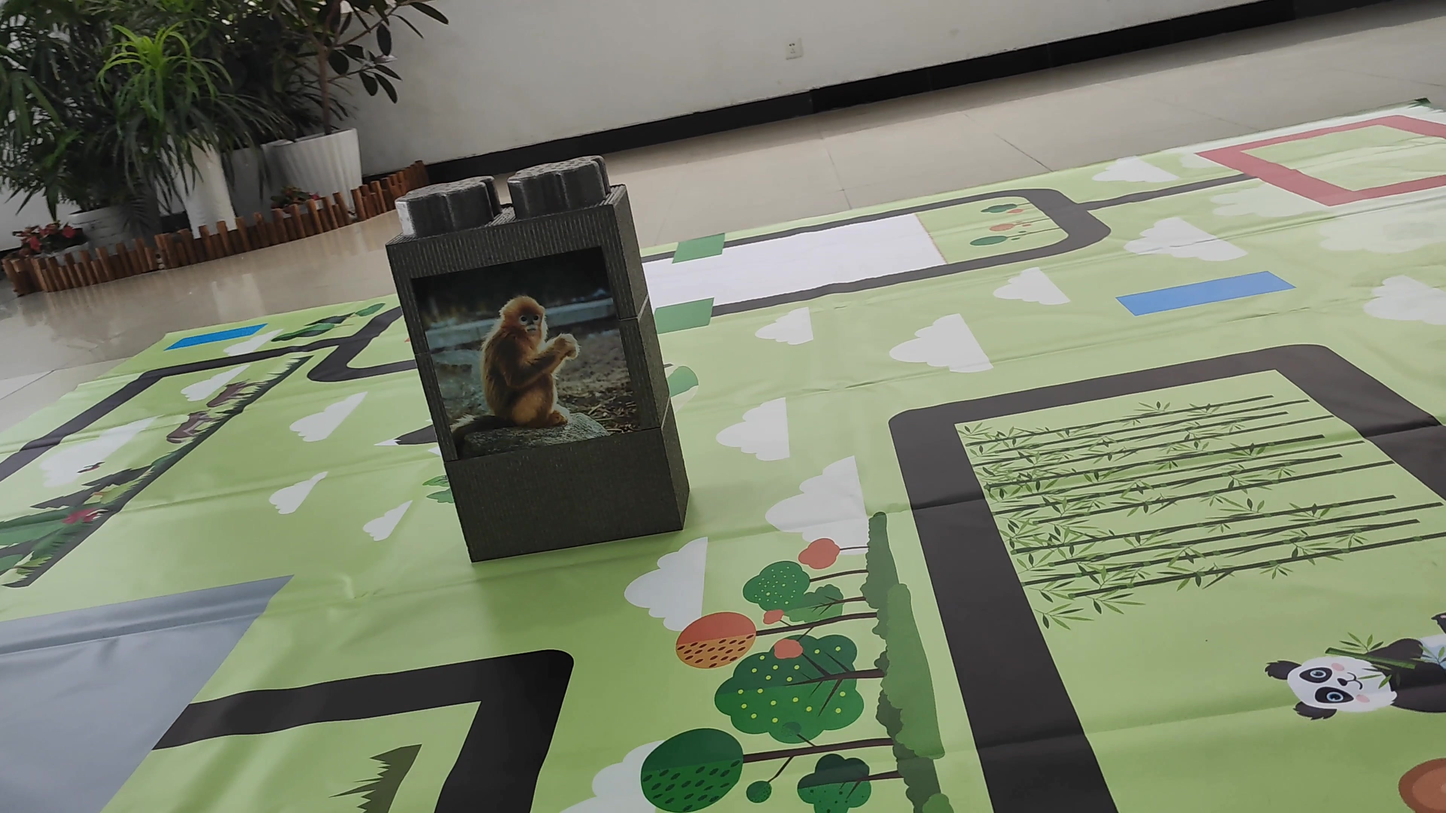monkey: (427, 257, 619, 446)
